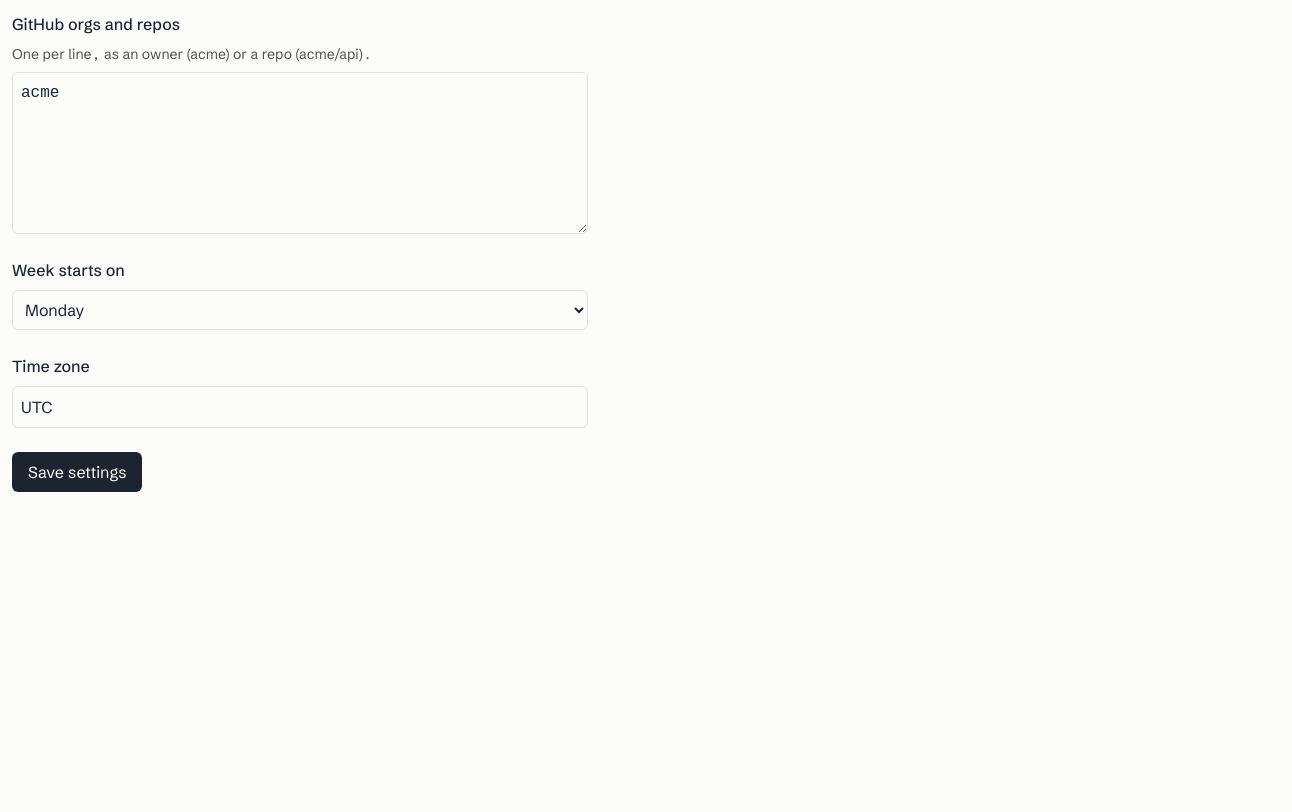
Test case: SettingsForm › shows why saving failed
Expected: the text box labelled "GitHub orgs and repos" is shown, x1=12 y1=72 x2=588 y2=234
What coordinates should you click on to do the following:
click the button "Save settings"
I would click on:
 (77, 472)
Its box is x1=12 y1=452 x2=142 y2=492.
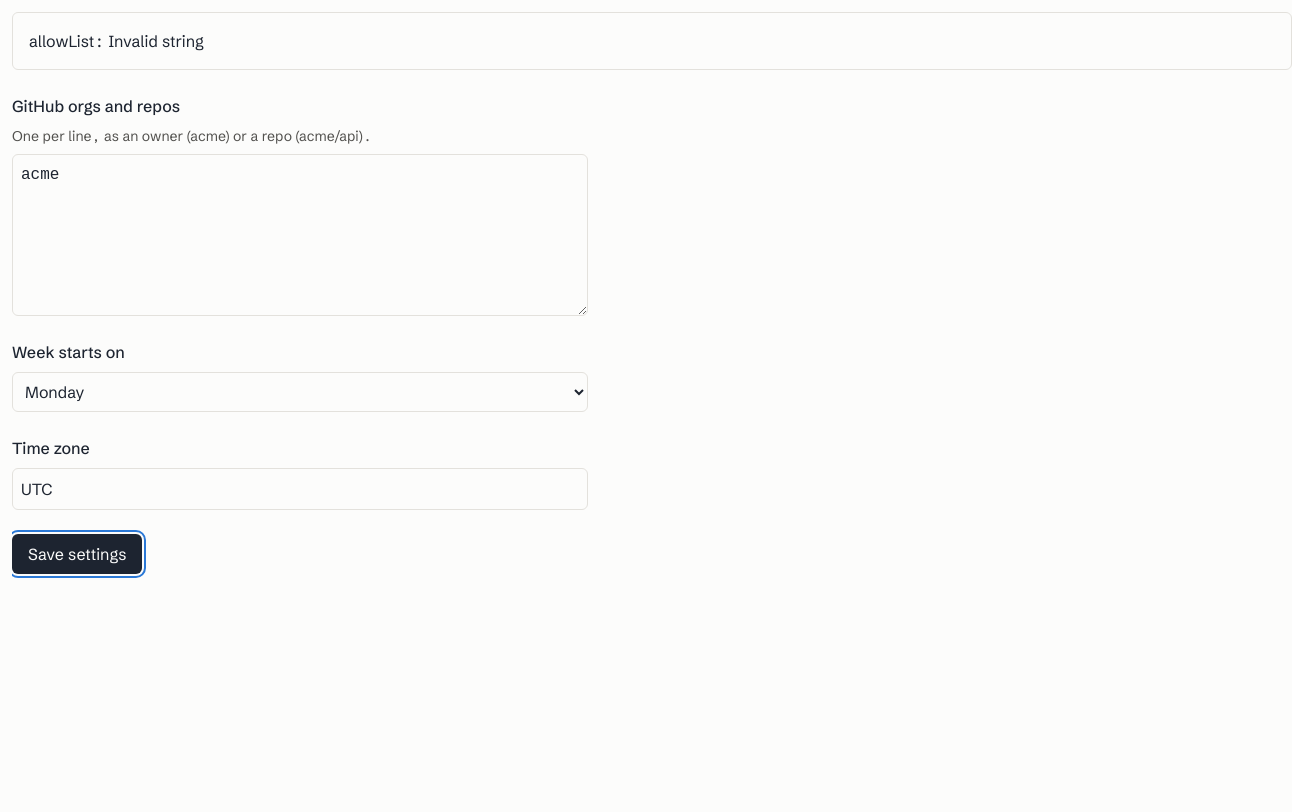
Now the message reads "allowList: Invalid string", box x1=29 y1=31 x2=204 y2=51
